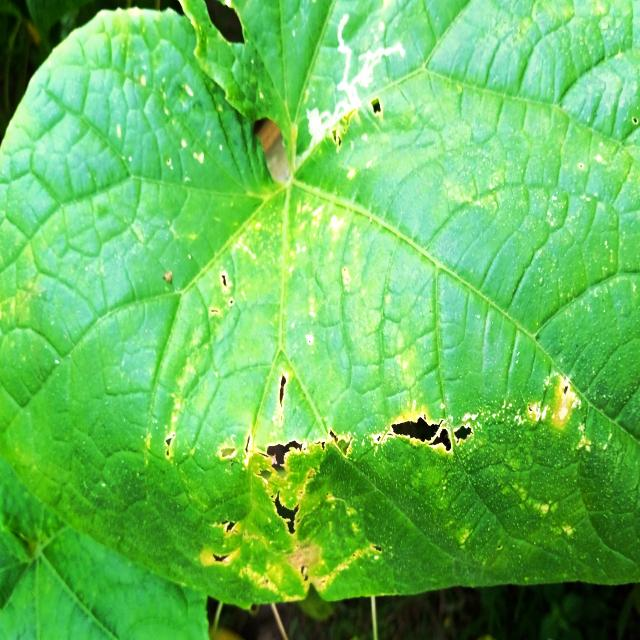Anthracnose: (206, 375, 356, 539), (374, 412, 476, 459)
